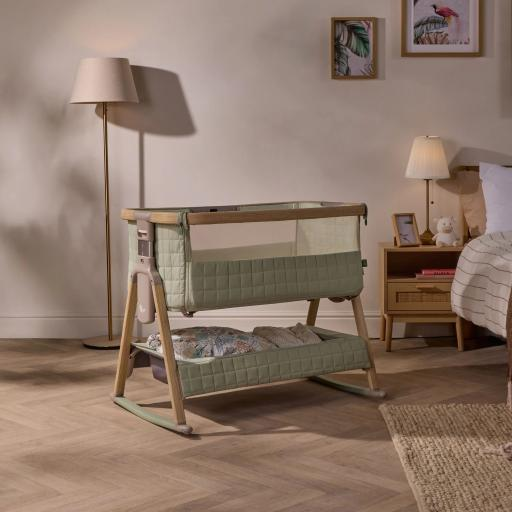crib: (111, 202, 385, 433)
